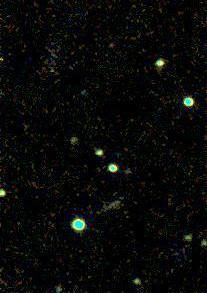star: (36, 59, 66, 89)
